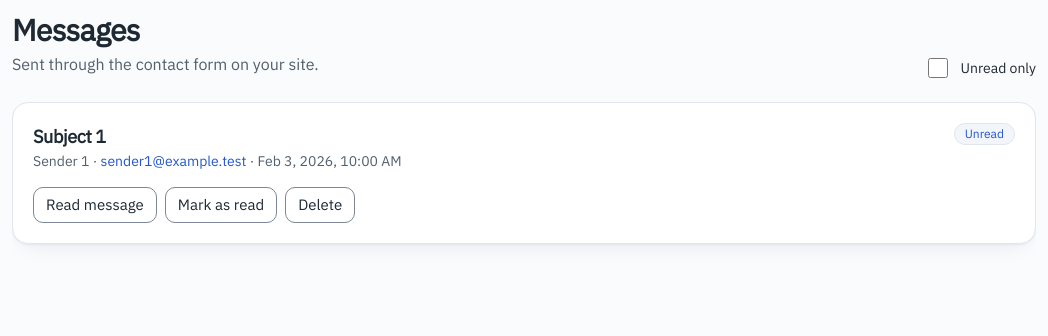
MessagesPage › renders visitor-supplied text as text, never as HTML
What coordinates should you click on to do the following:
click the button "Read message"
I would click on:
 (95, 205)
Its box is [33,187,157,223].
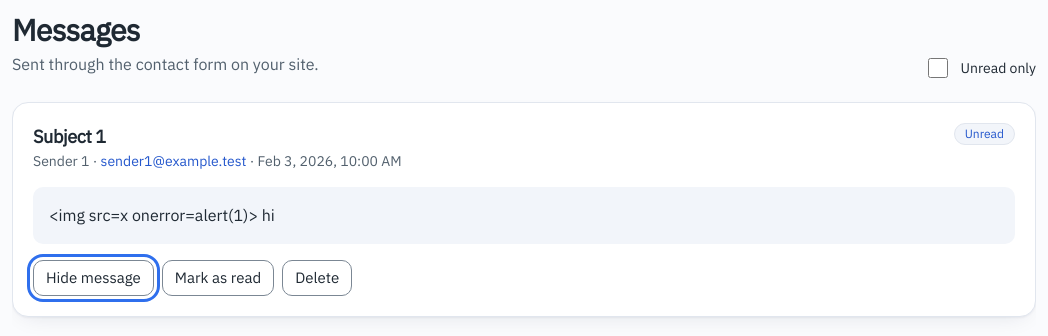
Now the text "<img src=x onerror=alert(1)> hi" is shown, box [33,187,1015,244]
